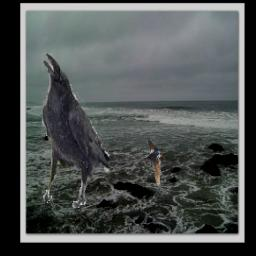Crow: (41, 53, 109, 209)
Swallow: (140, 138, 162, 186)
